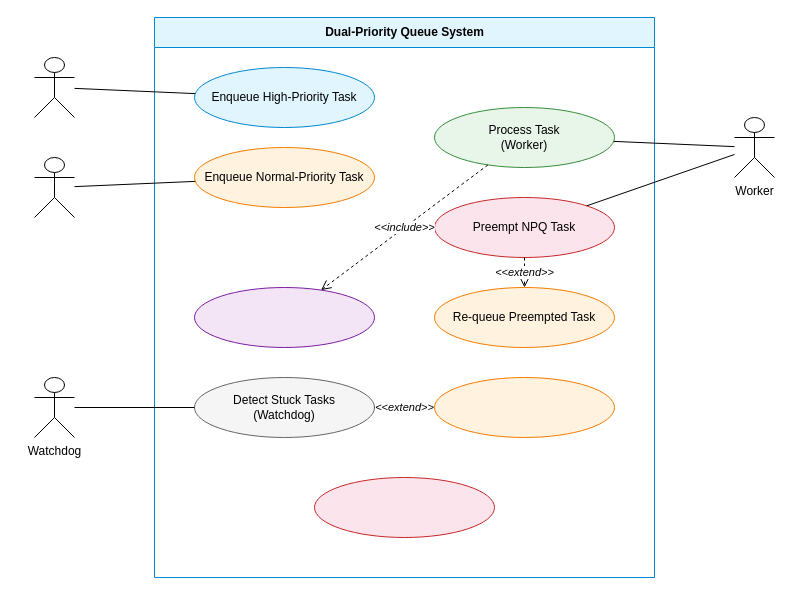
Image size: 792x595. Some labels were removed from this diagram. The centre of each missing label's shape, as x and y in pixels:
Recover from Crash: the point at 404,507
Retry Failed Task (Exponential Backoff): the point at 524,407
System/Batch: the point at 54,187
Track Task State (PostgreSQL): the point at 284,317
User/UI: the point at 54,87
